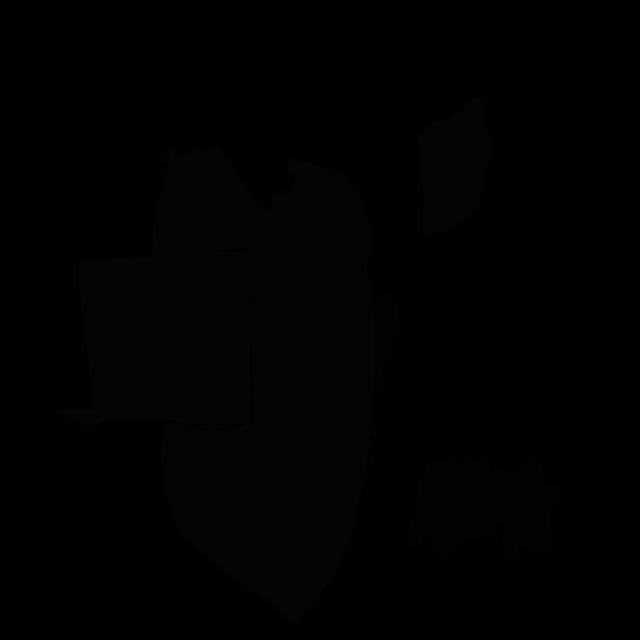cardboard: (406, 452, 560, 563), (364, 291, 400, 481)
rigid_plastic: (536, 5, 617, 147)
soft_plastic: (152, 145, 376, 626), (52, 250, 252, 429), (418, 98, 492, 234)
